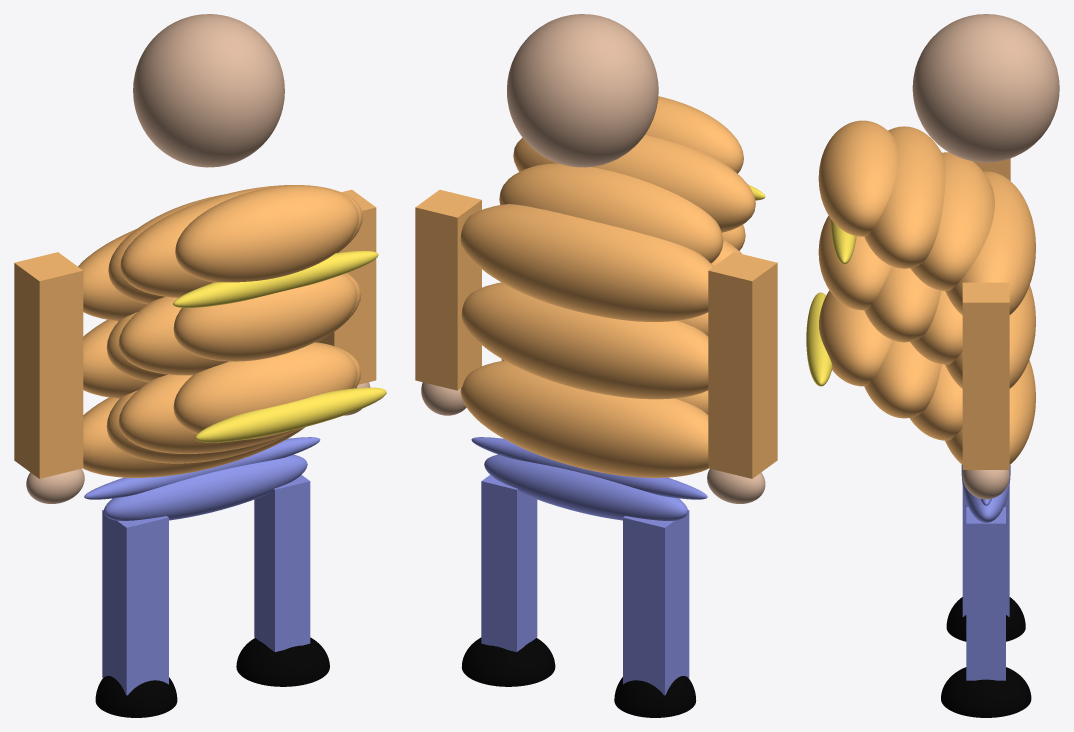
File: Jesse costume 1.glb
3 renders of one model, left to right at view 1: azimuth 30°, elevation 25°; view 2: azimuth 150°, elevation 25°; view 3: azimuth 270°, elevation 25°, orthographic. The views are drawn at different scales.
Visible parts, largest first — view 1: mesh_id85, mesh_id75, mesh_id53, mesh_id69, mesh_id47, mesh_id37, mesh_id71, mesh_id67, mesh_id52, mesh_id35, mesh_id63, mesh_id46 (+12 smaller); view 2: mesh_id50, mesh_id85, mesh_id29, mesh_id44, mesh_id75, mesh_id69, mesh_id73, mesh_id51, mesh_id71, mesh_id52, mesh_id67, mesh_id53 (+5 smaller); view 3: mesh_id85, mesh_id73, mesh_id52, mesh_id53, mesh_id71, mesh_id51, mesh_id50, mesh_id37, mesh_id35, mesh_id46, mesh_id47, mesh_id83 (+11 smaller).
Part boxes in pixels (box(x1,y1,x2,y2)): mesh_id85: box(133, 14, 284, 167); mesh_id75: box(14, 252, 83, 478); mesh_id53: box(175, 185, 358, 282); mesh_id69: box(102, 509, 168, 695); mesh_id47: box(173, 274, 357, 361); mesh_id37: box(173, 342, 357, 439); mesh_id71: box(254, 475, 310, 651); mesh_id67: box(103, 454, 307, 520); mesh_id52: box(120, 185, 362, 297); mesh_id35: box(118, 342, 361, 453); mesh_id63: box(195, 387, 386, 442); mesh_id46: box(118, 273, 361, 375); mesh_id50: box(460, 204, 713, 321); mesh_id85: box(507, 14, 658, 167); mesh_id29: box(460, 360, 708, 477); mesh_id44: box(461, 282, 708, 399); mesh_id75: box(708, 252, 777, 478); mesh_id69: box(623, 510, 689, 695); mesh_id73: box(415, 189, 481, 390); mesh_id51: box(499, 163, 723, 263); mesh_id71: box(481, 475, 537, 651); mesh_id52: box(513, 135, 755, 232); mesh_id67: box(484, 454, 687, 520); mesh_id53: box(645, 96, 743, 173); mesh_id85: box(912, 14, 1059, 162); mesh_id73: box(962, 282, 1009, 469); mesh_id52: box(864, 126, 945, 268); mesh_id53: box(818, 120, 899, 236); mesh_id71: box(966, 507, 1005, 680); mesh_id51: box(910, 152, 994, 290); mesh_id50: box(945, 171, 1035, 314); mesh_id37: box(819, 290, 892, 386); mesh_id35: box(864, 340, 941, 418); mesh_id46: box(864, 266, 941, 342); mesh_id47: box(818, 215, 891, 310); mesh_id83: box(941, 667, 1031, 717).
Bounding box in the file's own units: 0.3655 × 0.681 × 0.2432.
